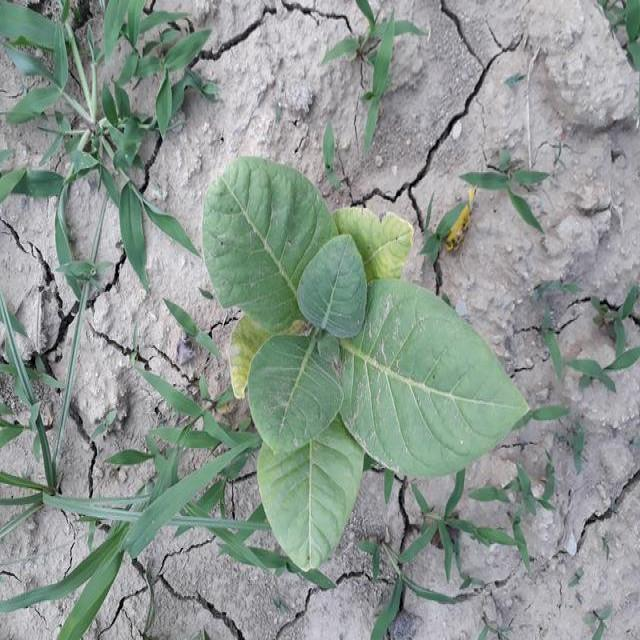crop: (192, 150, 538, 581)
